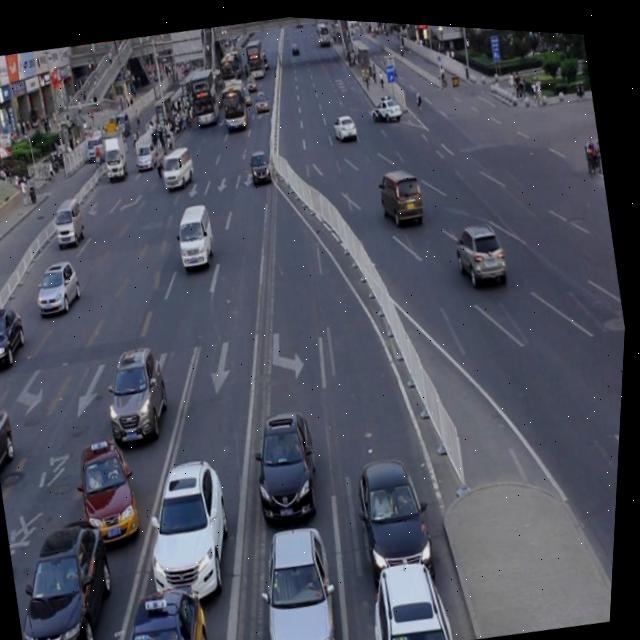car: (136, 445, 250, 605), (8, 507, 135, 640), (250, 507, 354, 640), (352, 438, 444, 578), (246, 396, 332, 522), (365, 540, 471, 640), (73, 427, 153, 548), (99, 333, 181, 447), (105, 569, 224, 640), (451, 212, 512, 285), (32, 254, 90, 320), (375, 159, 430, 228), (0, 400, 29, 490), (0, 301, 35, 372)
truck: (173, 200, 222, 270), (52, 194, 91, 248)
